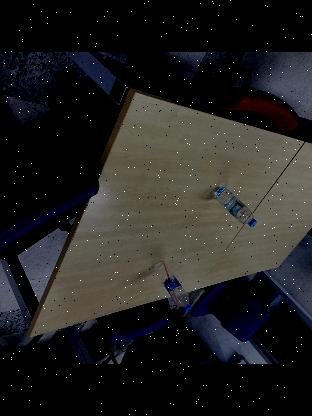Plastic Bottle: (209, 184, 259, 228), (150, 261, 192, 311)
